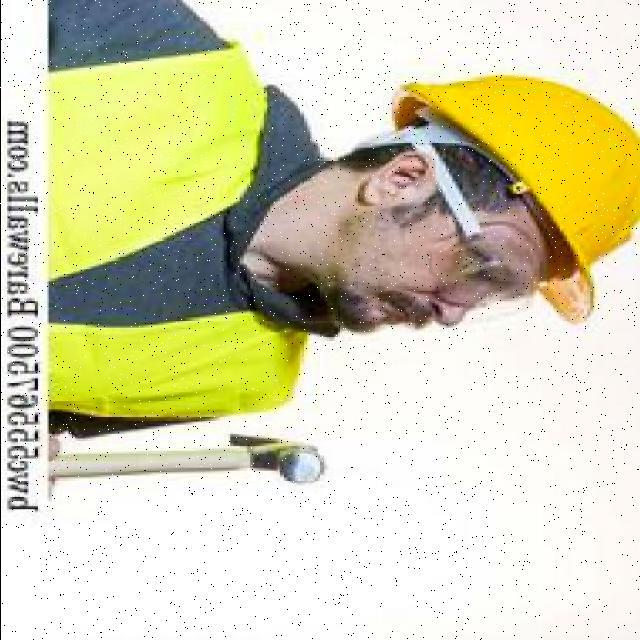Goggles: (430, 205, 536, 328)
